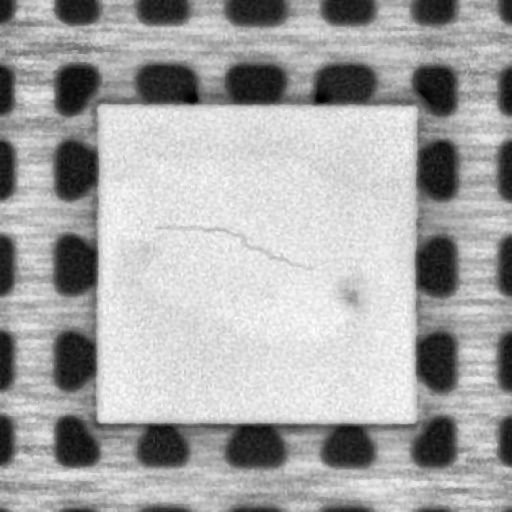DIE_CRACK: (154, 219, 313, 271)
